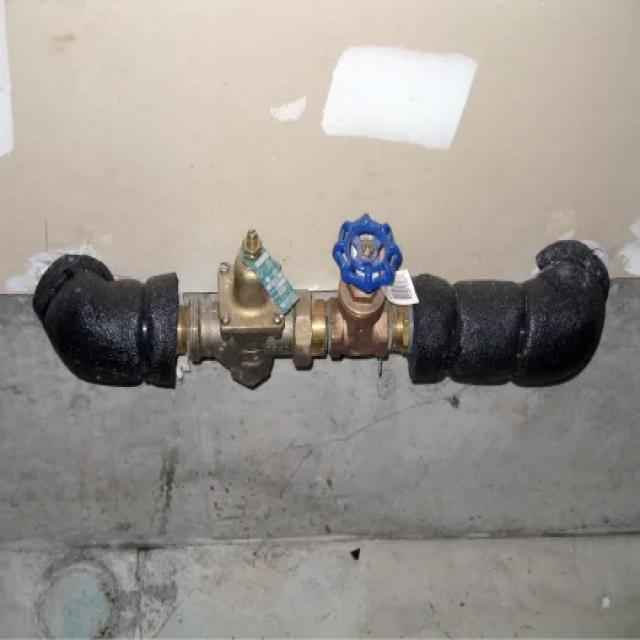Wheel Handle Valve Threaded: (313, 211, 414, 364)
